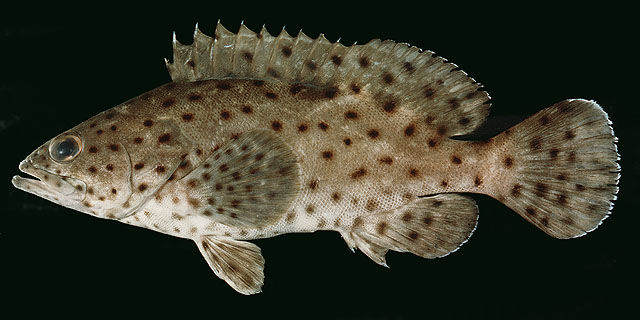fish: (12, 19, 623, 296)
